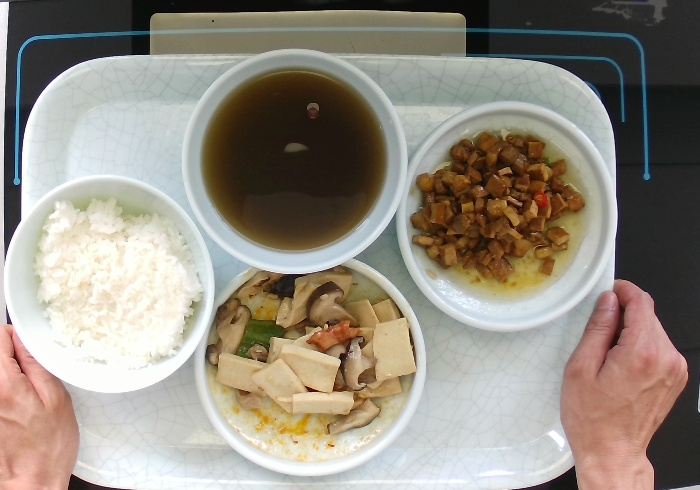JYsf-Fan_Wan: (179, 46, 409, 275), (1, 173, 217, 395)
JYsf-Xiao_Yuan_Pan: (394, 99, 619, 333), (191, 256, 428, 478)
